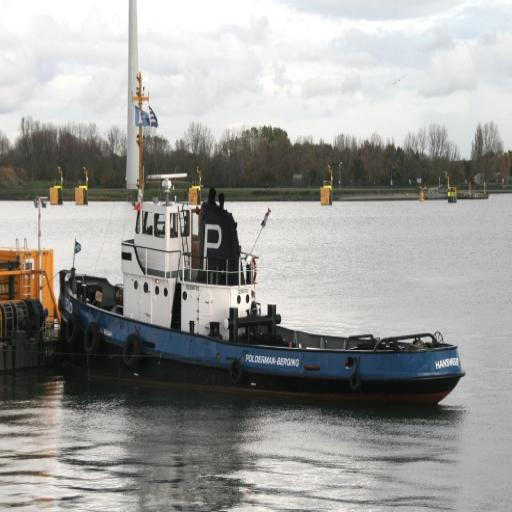tugboat: (56, 170, 470, 421)
